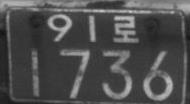1: (21, 48, 50, 97), (80, 15, 104, 42)
3: (101, 48, 133, 100)
6: (142, 49, 174, 102)
7: (58, 47, 91, 99)
9: (47, 13, 73, 42)
로: (113, 13, 139, 43)
